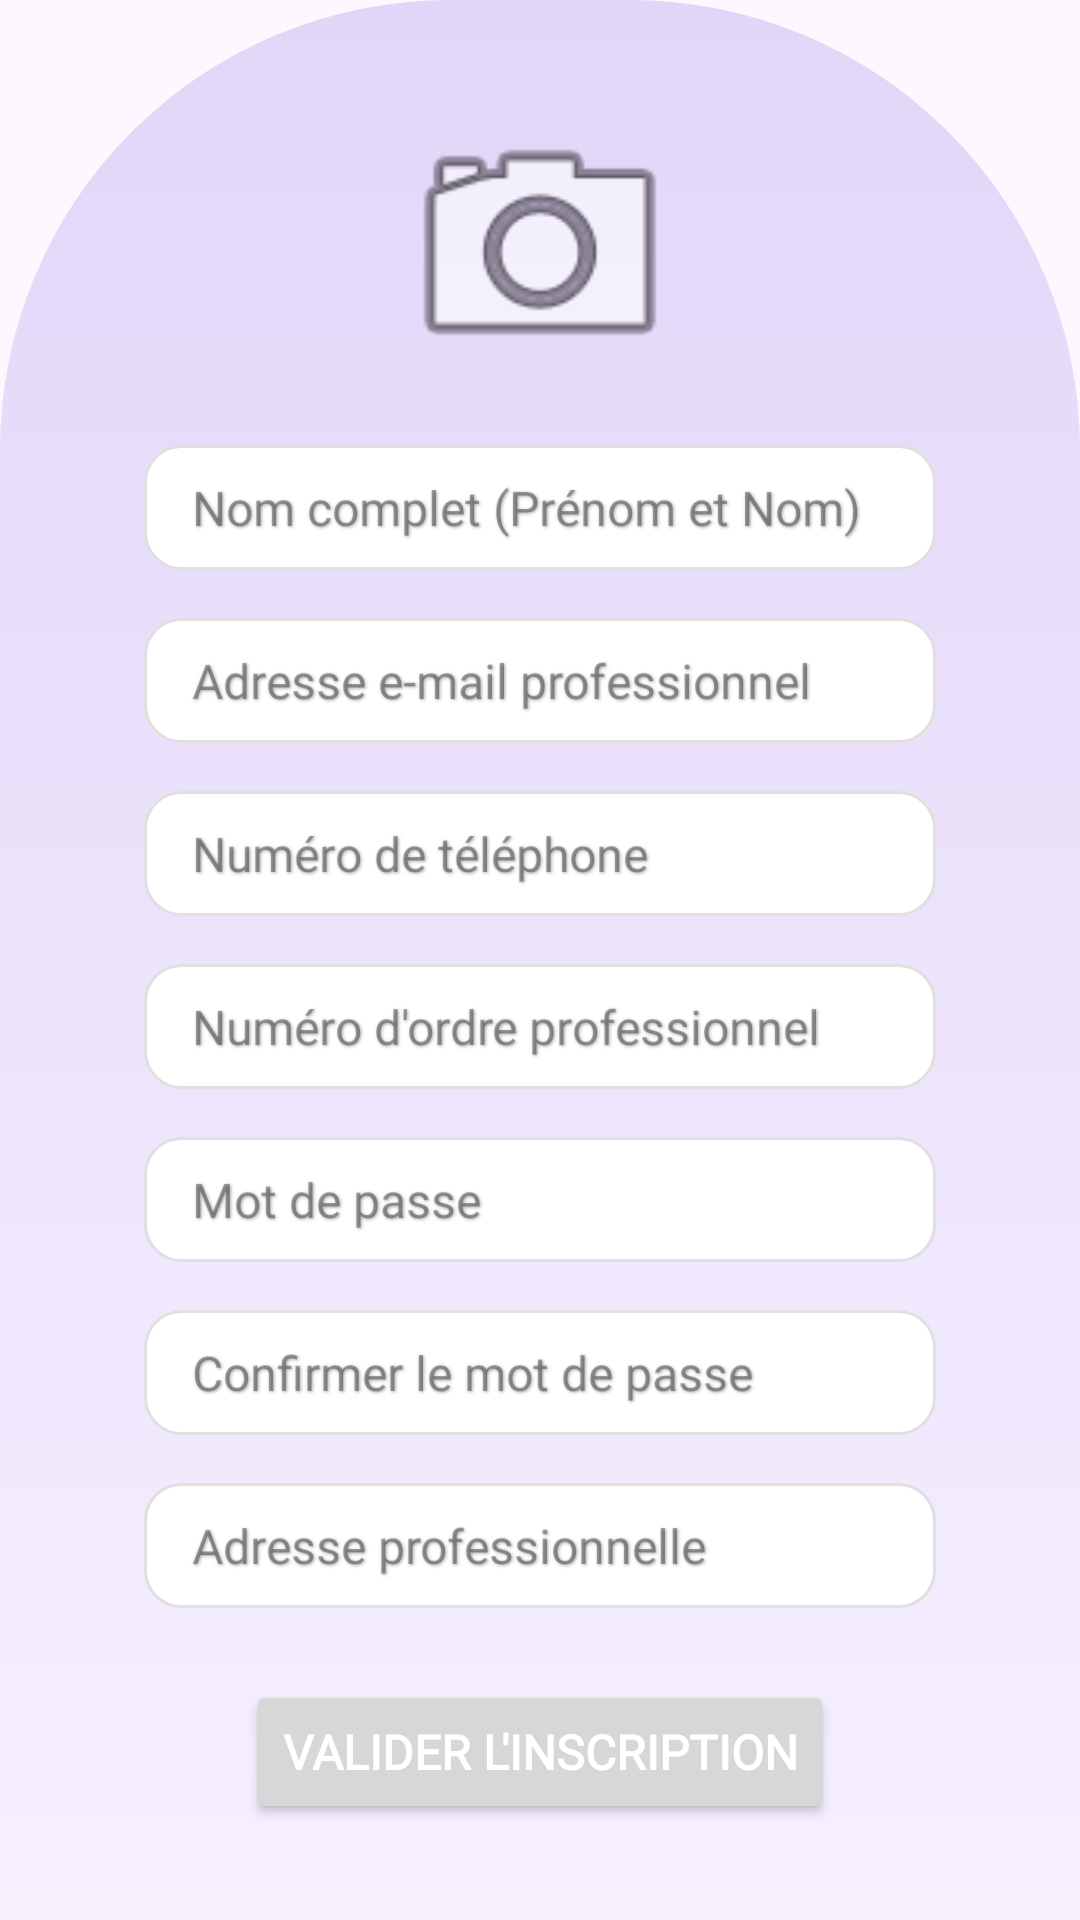

Where to tap for icons on this 1080px x 1920px app screen, as point (x, y):
camera: point (540, 242)
